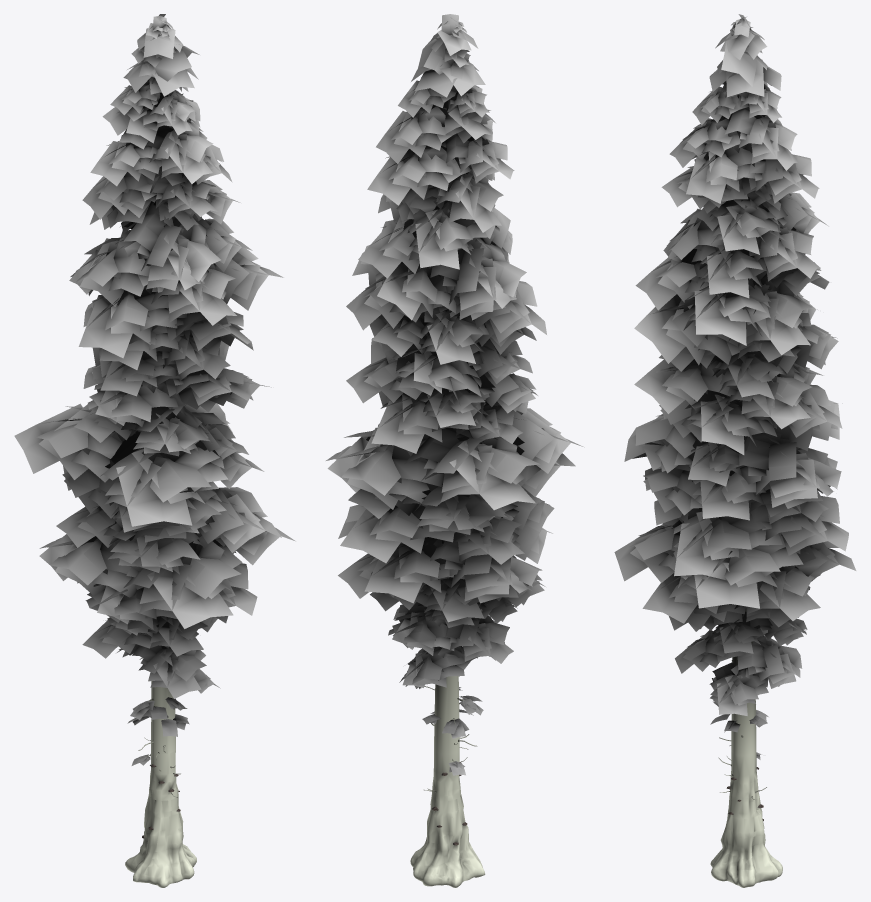
The model's file is PW_Tree_Sequoia_02.fbx.
The picture shows the model from 3 angles, left to right: view 1: azimuth 30°, elevation 25°; view 2: azimuth 150°, elevation 25°; view 3: azimuth 270°, elevation 25°; orthographic projection.
Parts seen in each view (by area): view 1: PW_Tree_Sequoia_02_LOD0; view 2: PW_Tree_Sequoia_02_LOD0; view 3: PW_Tree_Sequoia_02_LOD0.
Boxes of the visible parts, <box> form: PW_Tree_Sequoia_02_LOD0: <box>14,14,295,887</box>; PW_Tree_Sequoia_02_LOD0: <box>326,14,584,887</box>; PW_Tree_Sequoia_02_LOD0: <box>614,14,856,887</box>.
Size of what is drawn, in the model's own units: 1996 by 7436 by 1902.
